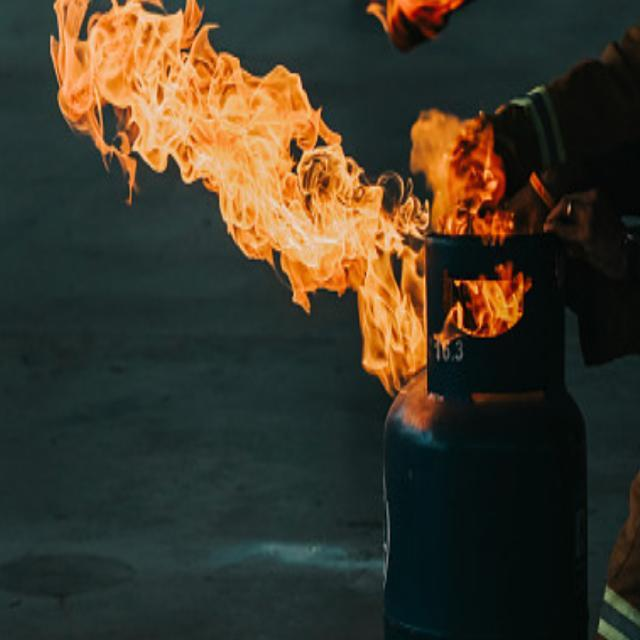Fire: (48, 0, 342, 311), (342, 149, 428, 392), (410, 105, 508, 240), (434, 256, 532, 348), (367, 0, 468, 55)
